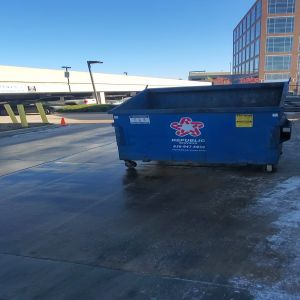Dumpster: (106, 80, 294, 175)
